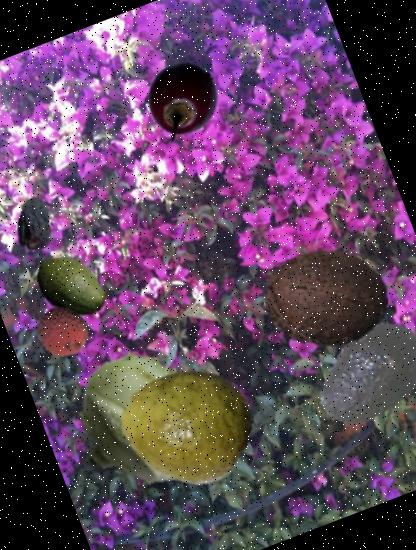Avocado: (294, 298, 416, 453), (20, 236, 122, 338)
Cocos: (246, 217, 407, 378)
Dates: (0, 190, 72, 260)
Guava: (100, 339, 271, 510)
Kohlrabi: (47, 328, 240, 521)
Lychee: (27, 297, 98, 367)
Tamarillo: (134, 50, 230, 146)
